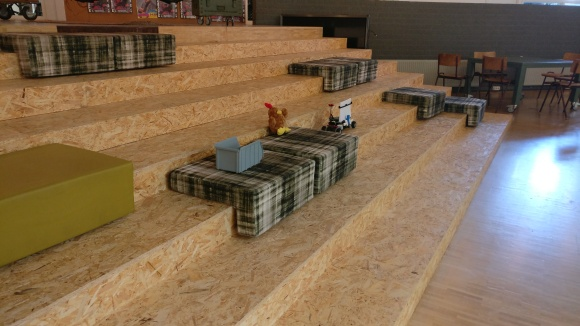car: (322, 98, 358, 134)
chicken: (263, 101, 293, 136)
tray: (213, 135, 265, 173)
